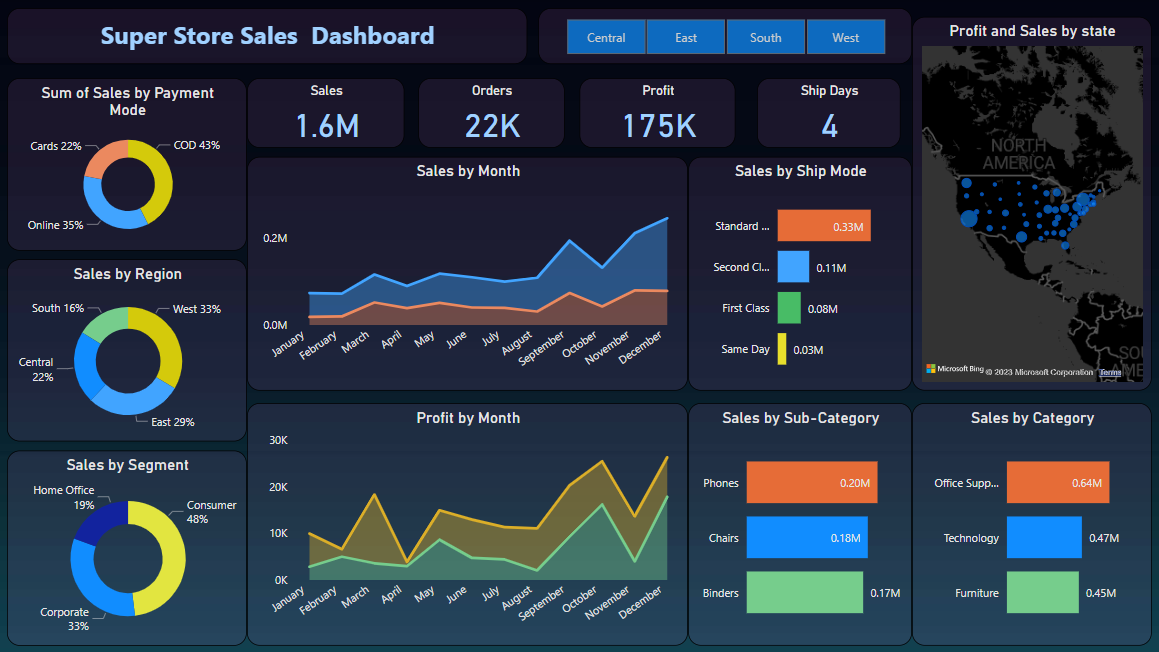

This screenshot's page, from the dashboard's own definition file:
{"tool":"powerbi","page":{"name":"Page 1","canvas":[1280,720],"ordinal":0},"visuals":[{"type":"clusteredBarChart","title":"Sales by Category","fields":{"Category":["Sheet1.Category"],"Y":["Sum(Sheet1.Sales)"]},"box":[1004.5,444.6,263.5,266.2],"z":0},{"type":"clusteredBarChart","title":"Sales by Sub-Category","fields":{"Y":["Sum(Sheet1.Sales)"],"Category":["Sheet1.Sub-Category"]},"box":[758.8,444.6,245.6,266.2],"z":1000},{"type":"clusteredBarChart","title":"Sales by Ship Mode","fields":{"Y":["Sum(Sheet1.Sales)"],"Category":["Sheet1.Ship Mode"]},"box":[758.8,174.3,245.6,256.6],"z":2000},{"type":"stackedAreaChart","title":"Sales by Month","fields":{"Y":["Sum(Sheet1.Sales)"],"Category":["Sheet1.Order Date.Variation.Date Hierarchy.Month","Sheet1.Order Date.Variation.Date Hierarchy.Day"],"Series":["Sheet1.Order Date.Variation.Date Hierarchy.Year"]},"box":[274.4,174.3,484.4,256.6],"z":3000},{"type":"stackedAreaChart","title":"Profit by Month","fields":{"Category":["Sheet1.Order Date.Variation.Date Hierarchy.Month","Sheet1.Order Date.Variation.Date Hierarchy.Day"],"Series":["Sheet1.Order Date.Variation.Date Hierarchy.Year"],"Y":["Sum(Sheet1.Profit)"]},"box":[274.4,444.6,484.4,266.2],"z":4000},{"type":"map","title":"Profit and Sales by state","fields":{"Category":["Sheet1.State"],"Size":["Sum(Sheet1.Sales)"]},"box":[1004.5,20.6,263.5,410.3],"z":5000},{"type":"donutChart","title":"Sales by Segment","fields":{"Category":["Sheet1.Segment"],"Y":["Sum(Sheet1.Sales)"]},"box":[11,496.7,263.5,214.1],"z":6000},{"type":"donutChart","title":" Sales by Region","fields":{"Y":["Sum(Sheet1.Sales)"],"Category":["Sheet1.Region"]},"box":[11,286.8,263.5,200.3],"z":7000},{"type":"donutChart","fields":{"Y":["Sum(Sheet1.Sales)"],"Category":["Sheet1.Payment Mode"]},"box":[11,87.8,263.5,189.4],"z":8000},{"type":"slicer","fields":{"Values":["Sheet1.Region"]},"box":[594.2,11,410.3,61.7],"z":9000},{"type":"textbox","box":[11,11,570.8,61.7],"z":10000},{"type":"card","title":"Sales","fields":{"Values":["Sum(Sheet1.Sales)"]},"box":[274.4,87.8,172.9,76.8],"z":11000},{"type":"card","title":"Orders","fields":{"Values":["Sum(Sheet1.Quantity)"]},"box":[462.4,87.8,160.5,76.8],"z":12000},{"type":"card","title":"Profit","fields":{"Values":["Sum(Sheet1.Profit)"]},"box":[639.5,87.8,171.5,76.8],"z":13000},{"type":"card","title":"Ship Days","fields":{"Values":["Avg(Sheet1.AvgDelivery)"]},"box":[834.3,87.8,157.8,76.8],"z":14000}]}

Visuals, with their boxes in screenshot pixels (x1, y1, x2, y2), scaled from the page's 1280x720 canvas onto the 1159x652 screenshot:
"Sales by Category" clusteredBarChart: locate(910, 403, 1148, 644)
"Sales by Sub-Category" clusteredBarChart: locate(687, 403, 909, 644)
"Sales by Ship Mode" clusteredBarChart: locate(687, 158, 909, 390)
"Sales by Month" stackedAreaChart: locate(248, 158, 687, 390)
"Profit by Month" stackedAreaChart: locate(248, 403, 687, 644)
"Profit and Sales by state" map: locate(910, 19, 1148, 390)
"Sales by Segment" donutChart: locate(10, 450, 249, 644)
" Sales by Region" donutChart: locate(10, 260, 249, 441)
donutChart - Sum(Sheet1.Sales) x Sheet1.Payment Mode: locate(10, 80, 249, 251)
slicer - Sheet1.Region: locate(538, 10, 910, 66)
textbox: locate(10, 10, 527, 66)
"Sales" card: locate(248, 80, 405, 149)
"Orders" card: locate(419, 80, 564, 149)
"Profit" card: locate(579, 80, 734, 149)
"Ship Days" card: locate(755, 80, 898, 149)
